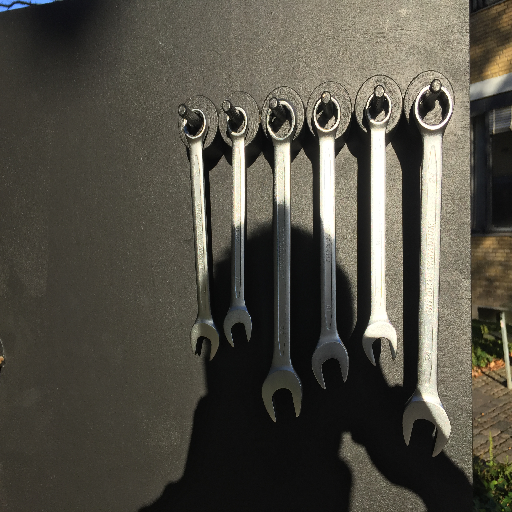bottom: (399, 393, 452, 458), (261, 365, 306, 423), (311, 335, 350, 391), (362, 319, 398, 367), (189, 317, 220, 364), (223, 303, 255, 347)
top: (412, 83, 455, 135), (265, 98, 299, 143), (363, 89, 394, 131), (311, 94, 341, 137), (179, 105, 211, 144), (223, 105, 251, 138)
